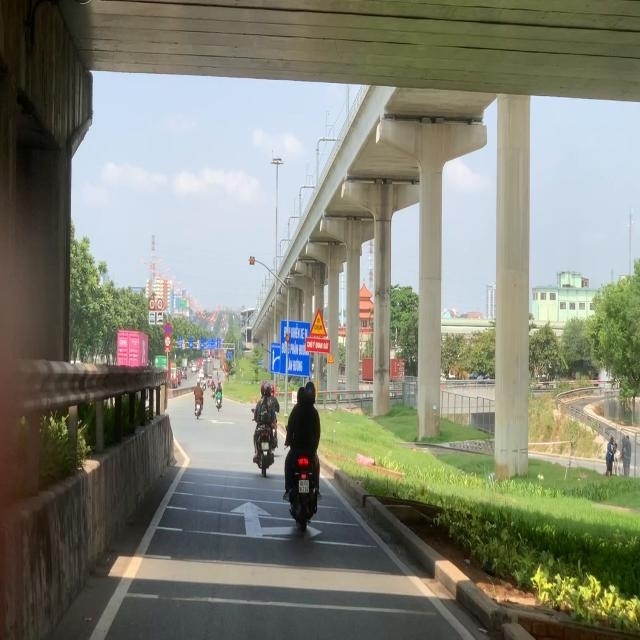bien_chi_dan: (309, 307, 328, 338), (157, 298, 164, 310), (149, 298, 156, 310), (165, 322, 171, 335)
